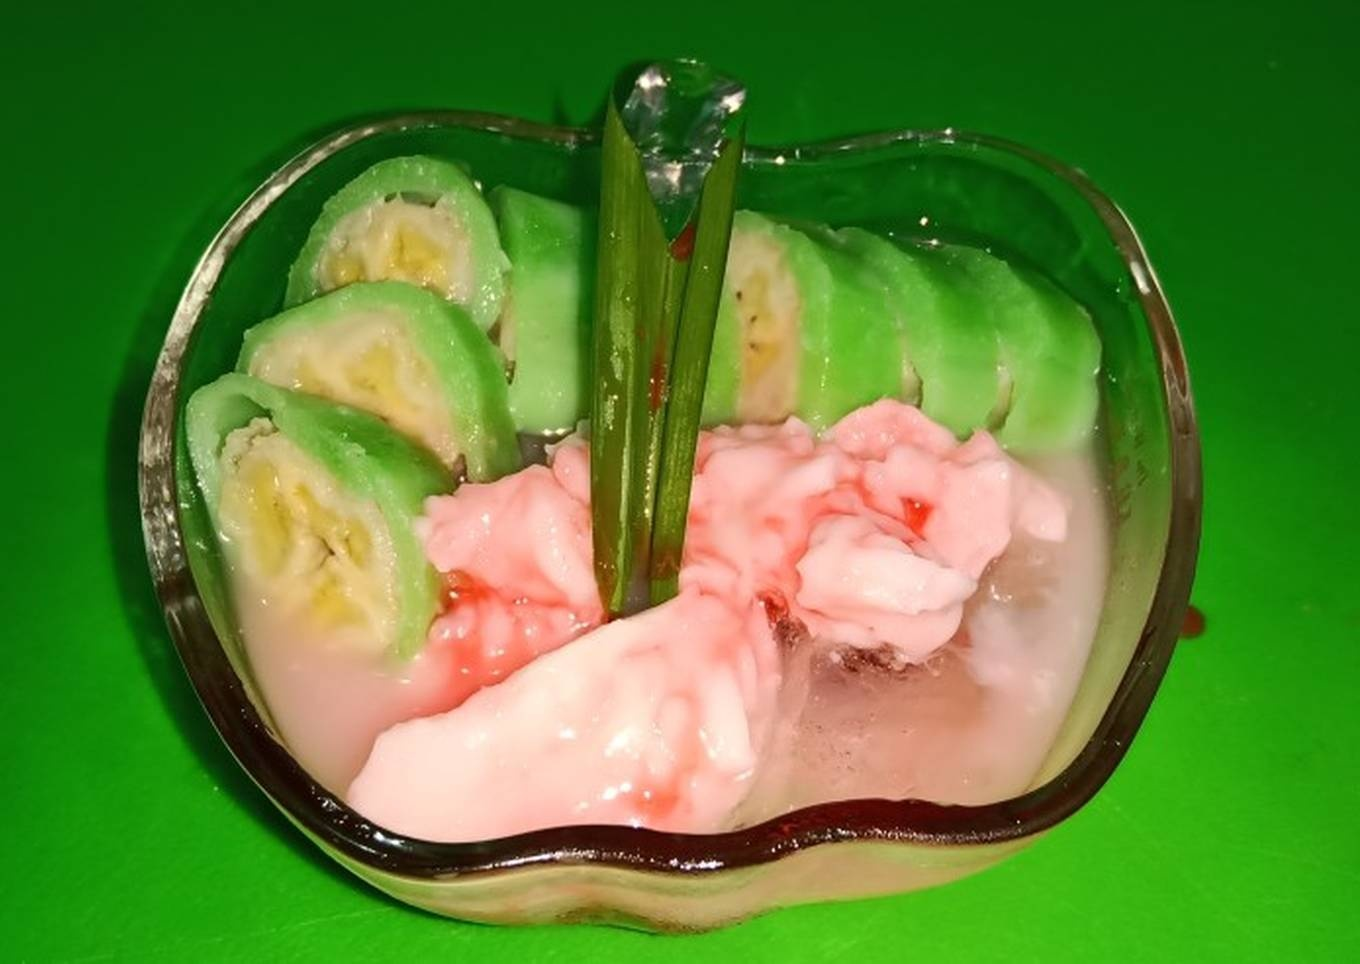es_pisang_ijo: (202, 151, 1120, 830)
